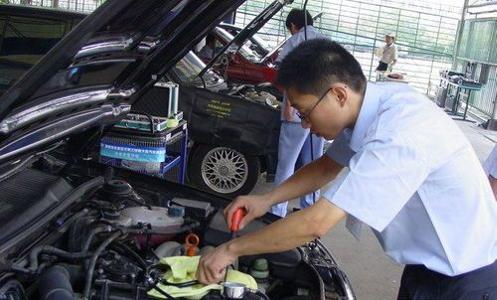person: (196, 39, 497, 300)
